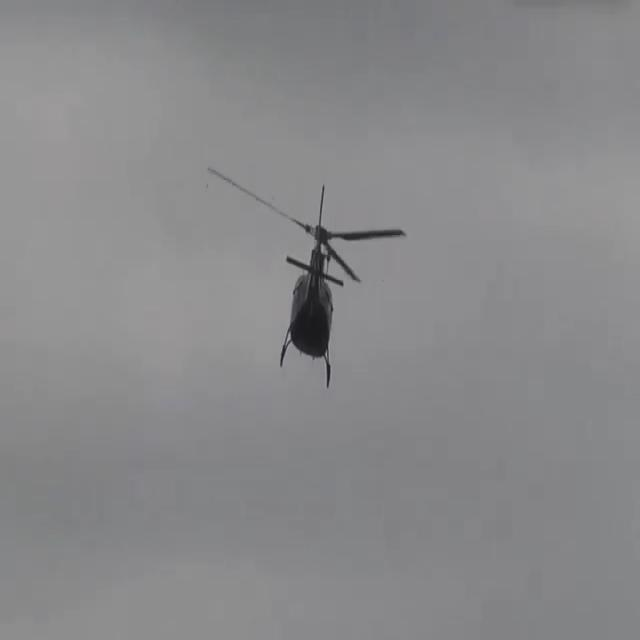Helicopter: (171, 94, 454, 446)
